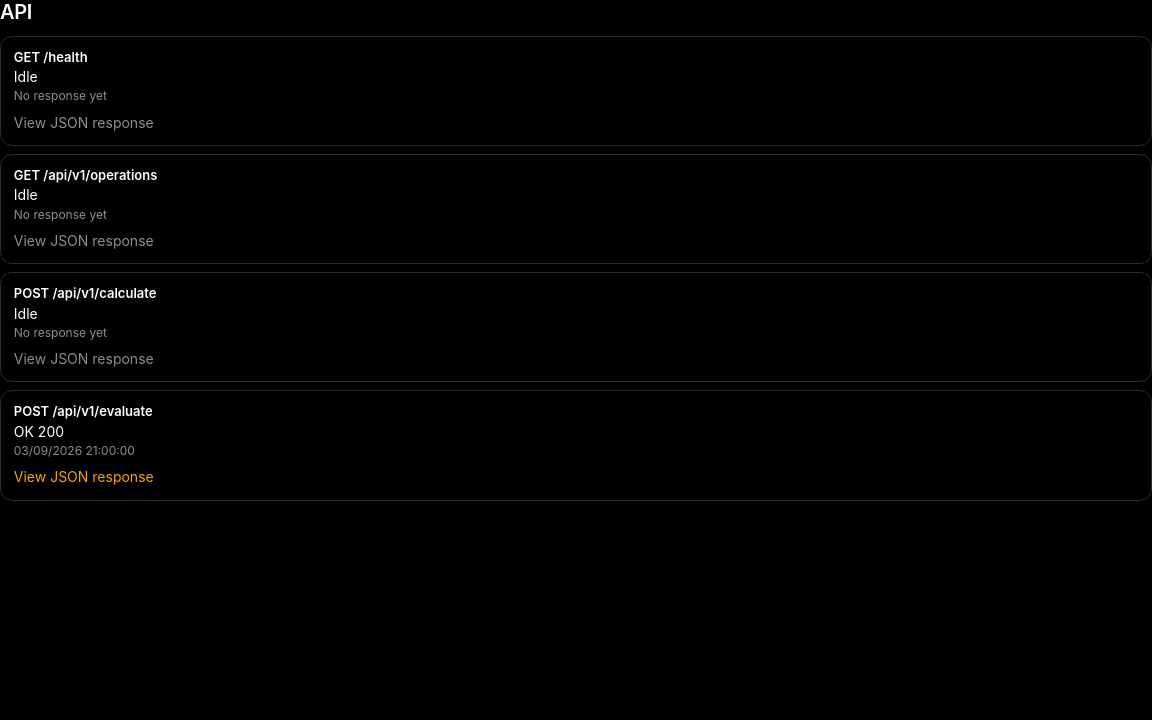
Scenario: ApiStatusPanel › shows the last response time and opens formatted JSON in a dialog
Check: the text "OK 200" is shown, box [14,423,64,440]
Click the button "View JSON response" below "POST /api/v1/evaluate".
click(84, 477)  # box [14,466,154,488]
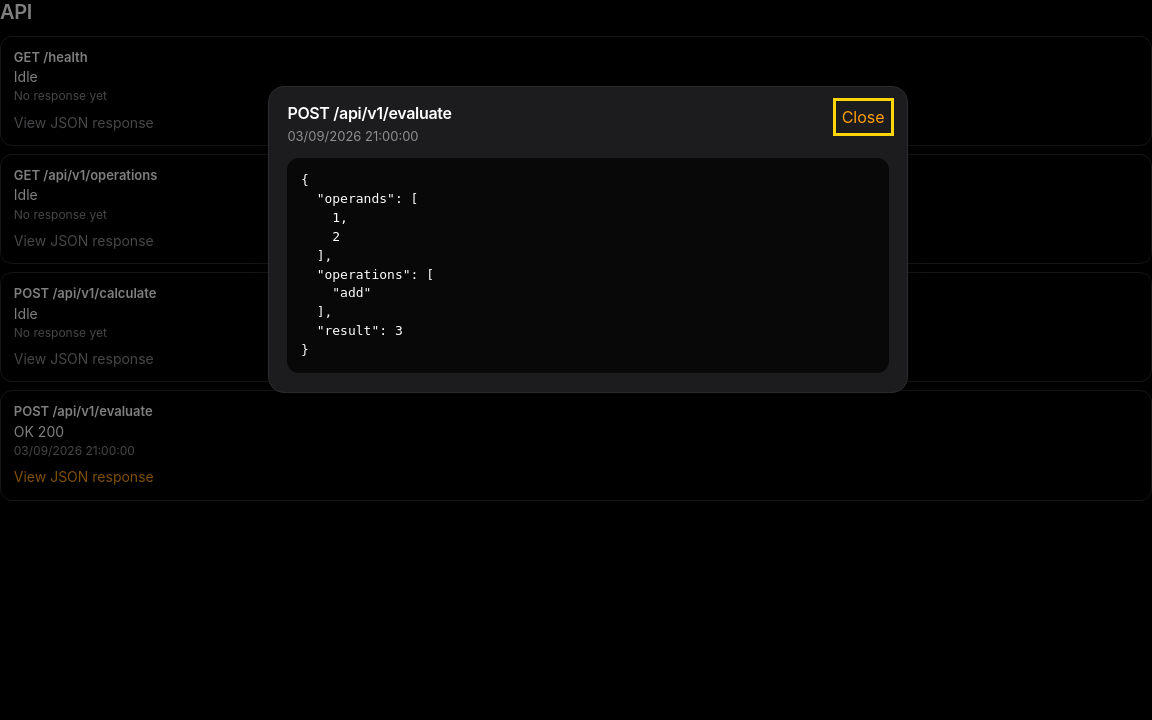
Check: the text "\"result\": 3" is shown, box [301,172,434,357]
